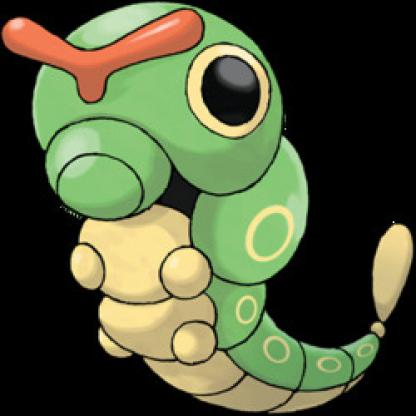Caterpie: (9, 2, 416, 415)
